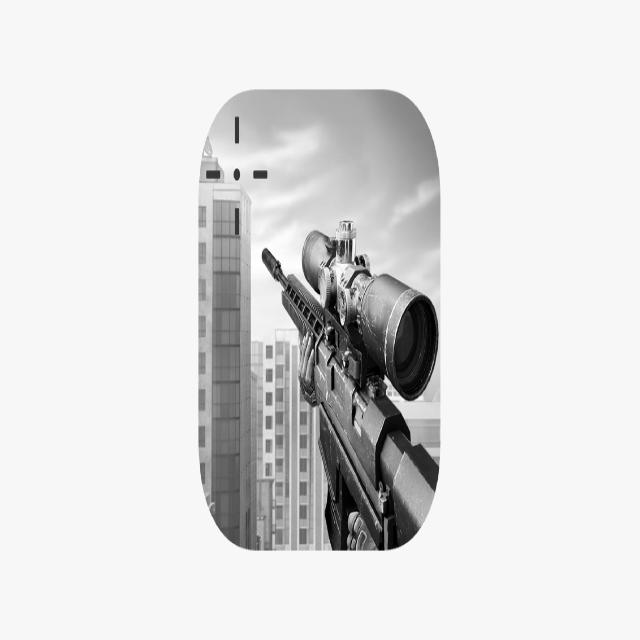Weapon: (262, 220, 438, 549)
